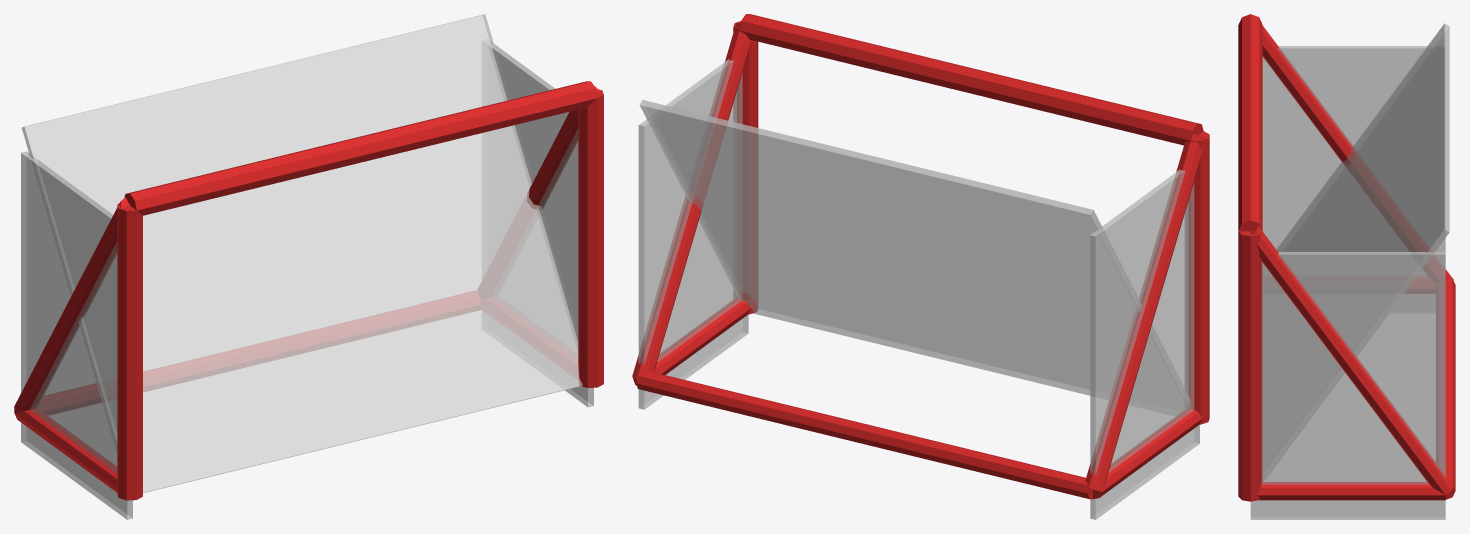
The model's file is HockeyGoal.fbx.
The picture shows the model from 3 angles, left to right: view 1: azimuth 30°, elevation 25°; view 2: azimuth 150°, elevation 25°; view 3: azimuth 270°, elevation 25°; orthographic projection. The views are drawn at different scales.
Visible parts, largest first — view 1: Net, Frame; view 2: Net, Frame; view 3: Net, Frame.
Part boxes in pixels (x1,y1,x2,y2): Net: (21,14,593,519); Frame: (14,81,603,500); Net: (638,59,1199,519); Frame: (632,14,1209,499); Net: (1250,23,1449,519); Frame: (1238,14,1455,501).
Size of the model in its own units: 4.2 by 2.7 by 1.78.
